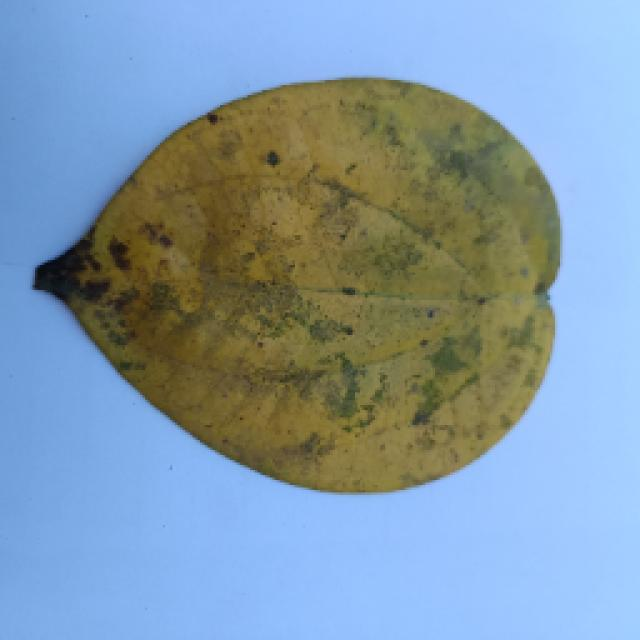slow-decline: (25, 78, 607, 502)
